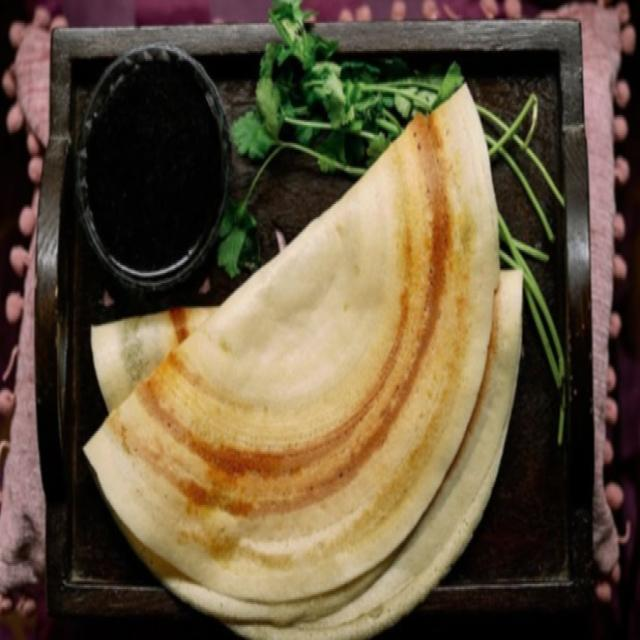DOSA: (85, 87, 523, 638)
